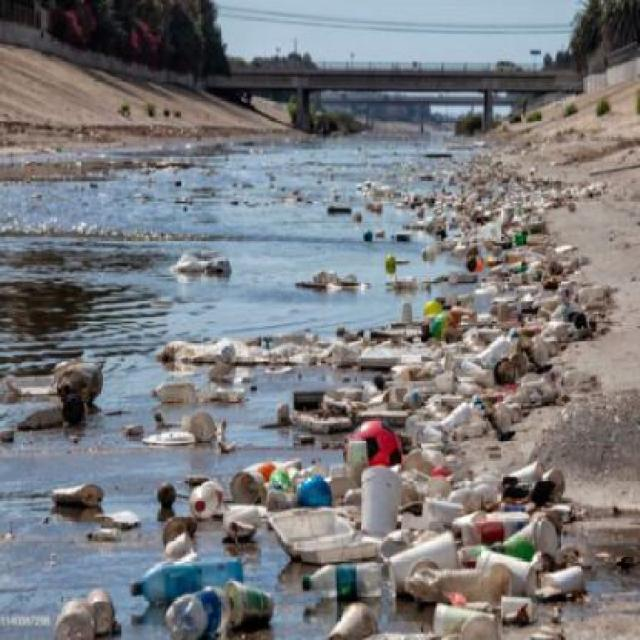a: (429, 416, 564, 564), (388, 397, 476, 511), (264, 470, 350, 574), (333, 397, 420, 497), (480, 501, 577, 590), (427, 555, 524, 639), (534, 253, 610, 355), (315, 324, 393, 421), (400, 332, 477, 424), (448, 318, 522, 409), (261, 467, 332, 550), (178, 545, 246, 628), (172, 332, 248, 406), (460, 220, 533, 296), (421, 178, 475, 242), (366, 228, 420, 291), (469, 158, 521, 213), (172, 246, 239, 283), (520, 326, 566, 375)
